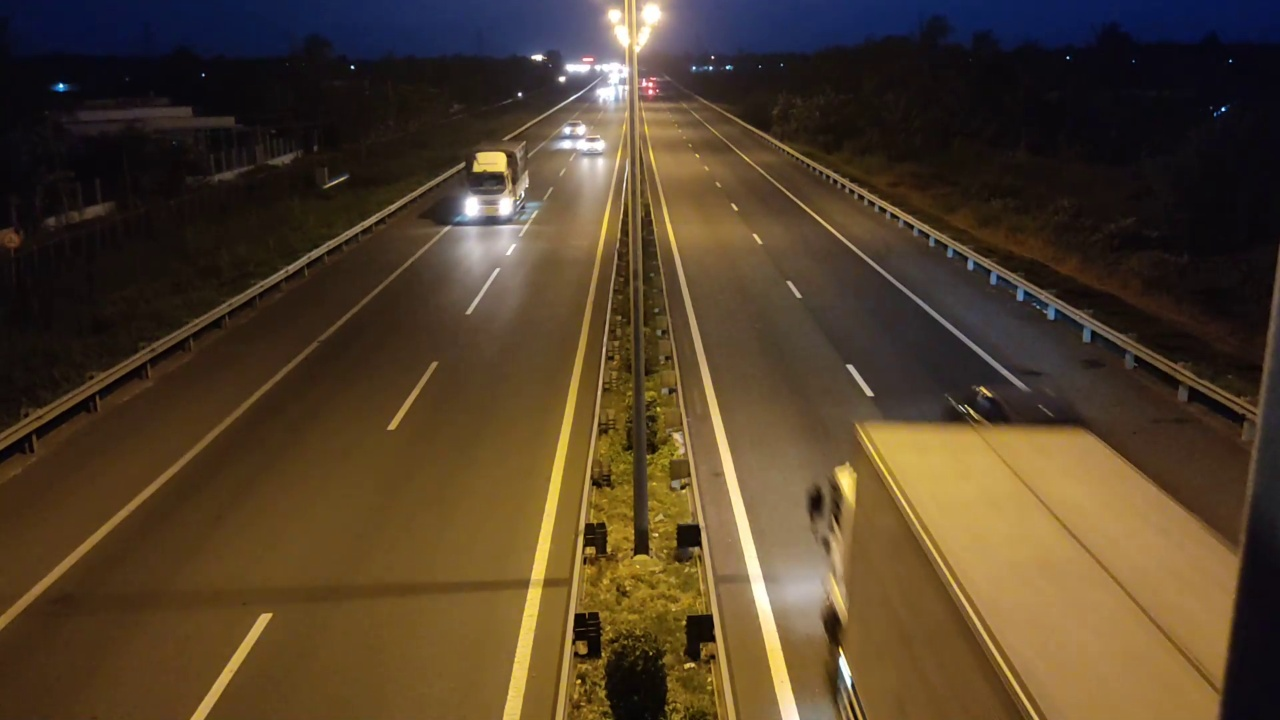car: (576, 135, 606, 155)
truck: (457, 136, 531, 225)
